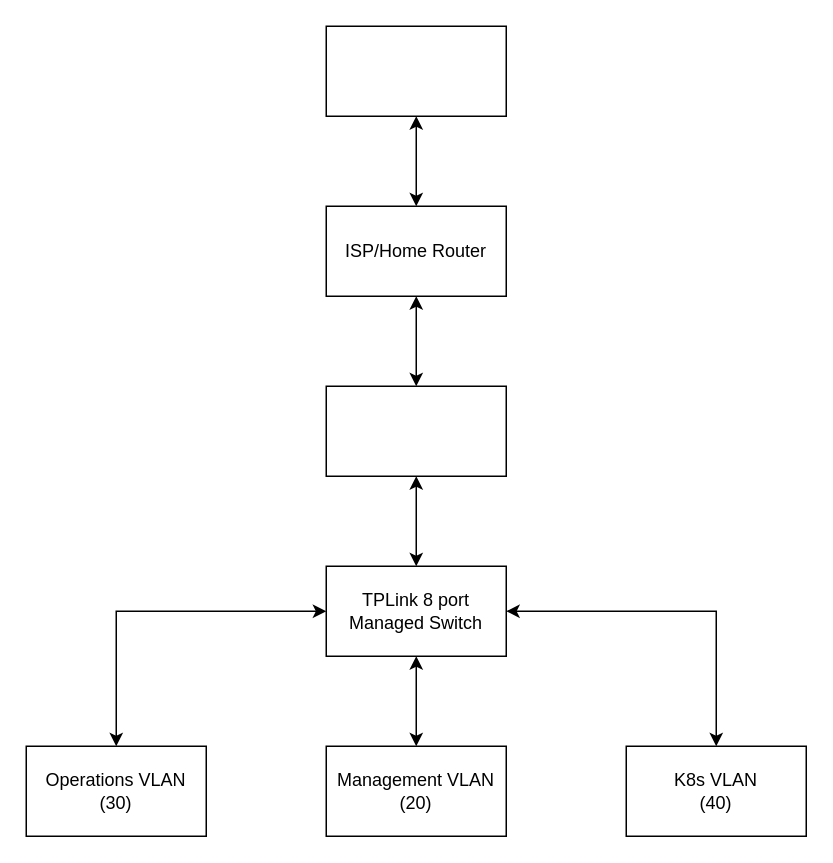
This 833x863 diagram has some shape labels left out. Each missing label, with the box of its shape:
OpenWRT running on RPi 5: (325, 385, 506, 476)
The Internet: (325, 25, 506, 116)
